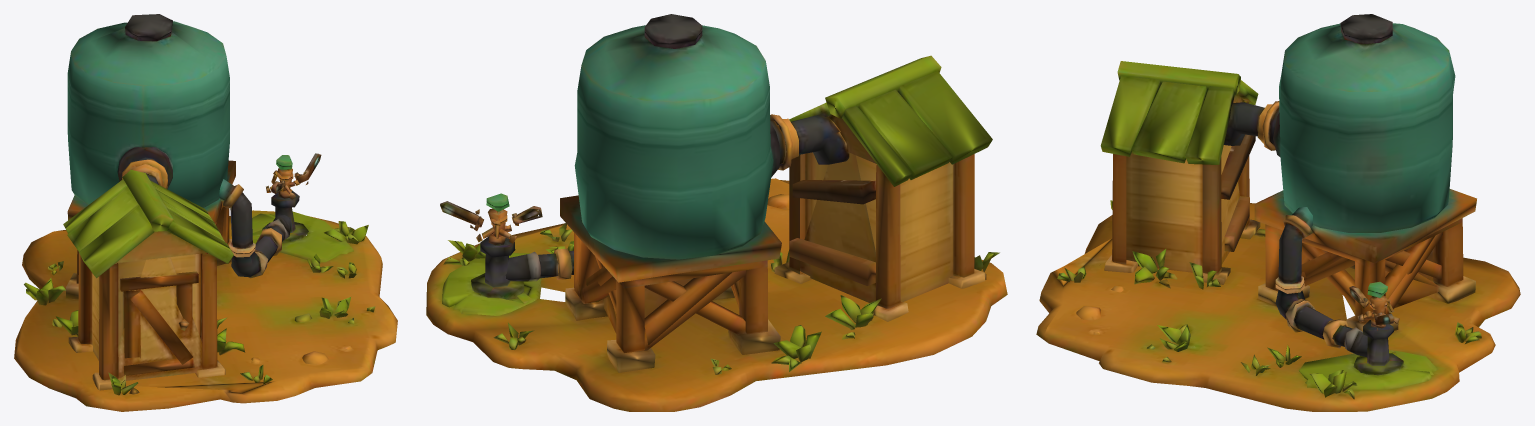
3 renders of one model, left to right at view 1: azimuth 30°, elevation 25°; view 2: azimuth 150°, elevation 25°; view 3: azimuth 270°, elevation 25°, orthographic. The views are drawn at different scales.
Parts seen in each view (by area): view 1: tripo_node_eed7be55-f58a-428d-a536-4987d4330459; view 2: tripo_node_eed7be55-f58a-428d-a536-4987d4330459; view 3: tripo_node_eed7be55-f58a-428d-a536-4987d4330459.
Part boxes in pixels (x1,y1,x2,y2): tripo_node_eed7be55-f58a-428d-a536-4987d4330459: (14, 14, 397, 411); tripo_node_eed7be55-f58a-428d-a536-4987d4330459: (426, 14, 1007, 411); tripo_node_eed7be55-f58a-428d-a536-4987d4330459: (1036, 14, 1520, 411).
Size of the model in its own units: 4.6 by 3 by 4.6.
Materials: 1 (1 with a texture image).
